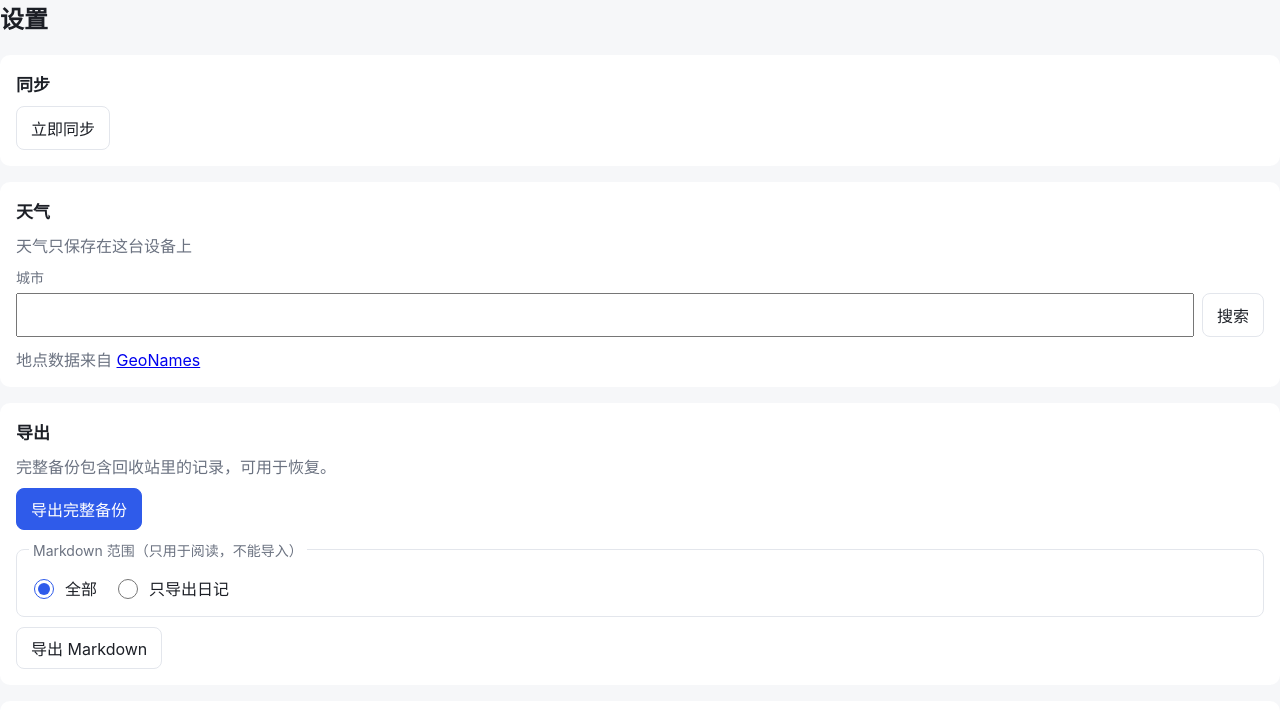
Test: Settings: sync now › shows the result line: ok, nothing moved
What coordinates should you click on to do the following:
click the button "立即同步"
I would click on:
 (63, 128)
Its box is [16, 106, 110, 150].
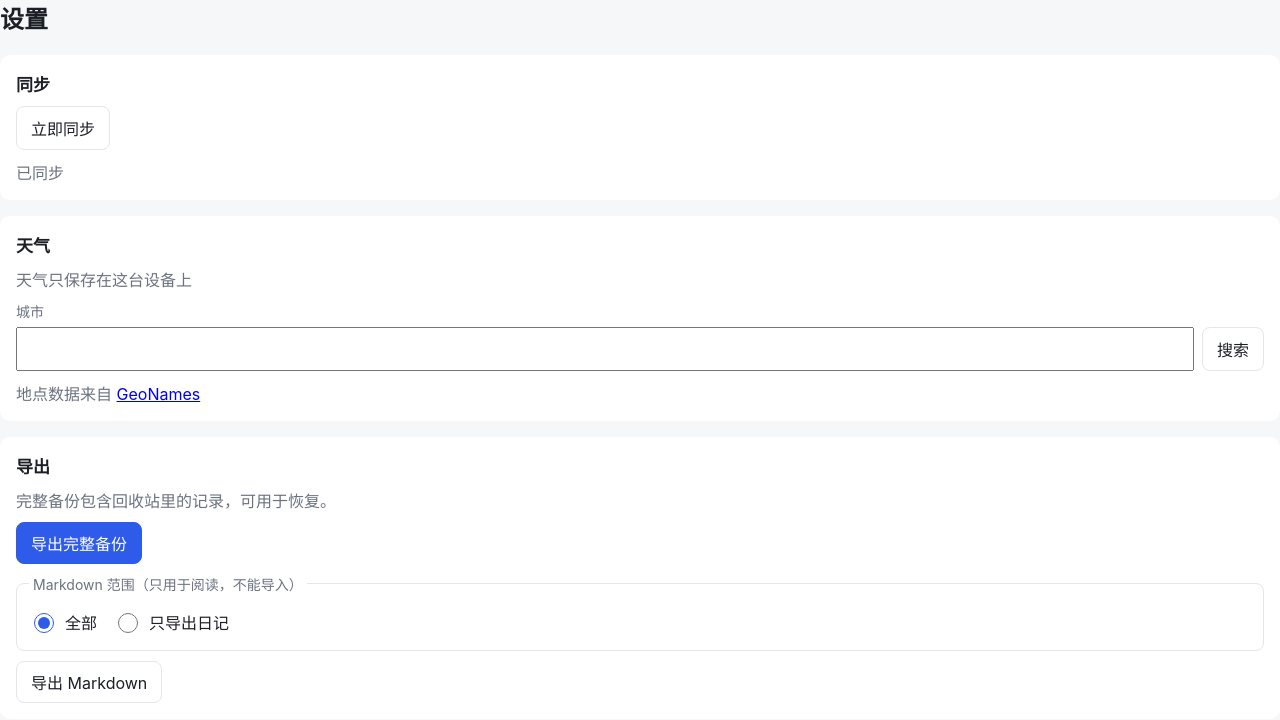
Result: the text "已同步" is shown at [16, 160, 64, 184]
